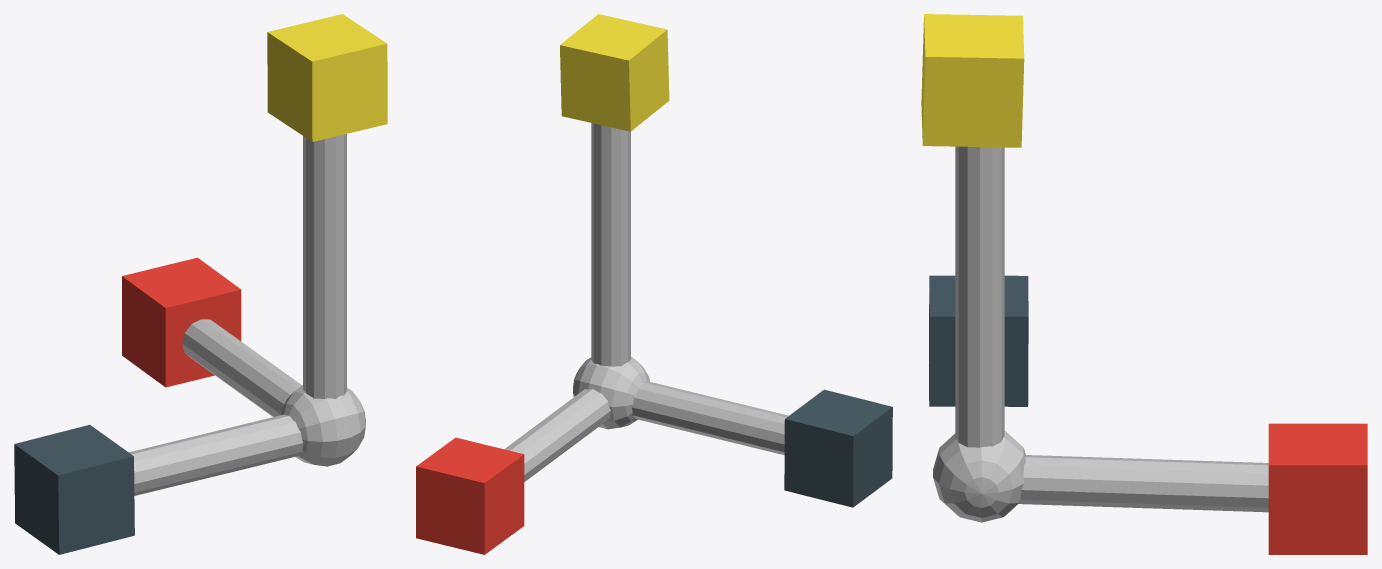
Rendered from scaleIcon.fbx.
3 renders of one model, left to right at view 1: azimuth 30°, elevation 25°; view 2: azimuth 150°, elevation 25°; view 3: azimuth 270°, elevation 25°, orthographic. The views are drawn at different scales.
Visible parts, largest first — view 1: mesh_360110530, mesh_555370093, mesh_451806296, mesh_780846436, mesh_1886156887, mesh_2040090868, mesh_799689574; view 2: mesh_360110530, mesh_555370093, mesh_780846436, mesh_451806296, mesh_1886156887, mesh_2040090868, mesh_799689574; view 3: mesh_451806296, mesh_555370093, mesh_780846436, mesh_2040090868, mesh_360110530, mesh_799689574.
Boxes of the visible parts, <box> form: mesh_360110530: <box>14,424,134,554</box>; mesh_555370093: <box>267,14,387,141</box>; mesh_451806296: <box>303,134,346,398</box>; mesh_780846436: <box>122,257,241,387</box>; mesh_1886156887: <box>129,414,303,495</box>; mesh_2040090868: <box>182,319,301,416</box>; mesh_799689574: <box>280,385,365,466</box>; mesh_360110530: <box>784,389,892,507</box>; mesh_555370093: <box>560,14,669,131</box>; mesh_780846436: <box>416,437,524,554</box>; mesh_451806296: <box>591,123,630,366</box>; mesh_1886156887: <box>632,381,788,455</box>; mesh_2040090868: <box>504,389,610,481</box>; mesh_799689574: <box>573,356,649,429</box>; mesh_451806296: <box>955,146,1004,447</box>; mesh_555370093: <box>921,14,1024,147</box>; mesh_780846436: <box>1268,423,1367,554</box>; mesh_2040090868: <box>1018,455,1268,512</box>; mesh_360110530: <box>929,275,1028,406</box>; mesh_799689574: <box>933,431,1025,522</box>.
Bounding box in the file's own units: 26.39 × 33.18 × 27.06.
